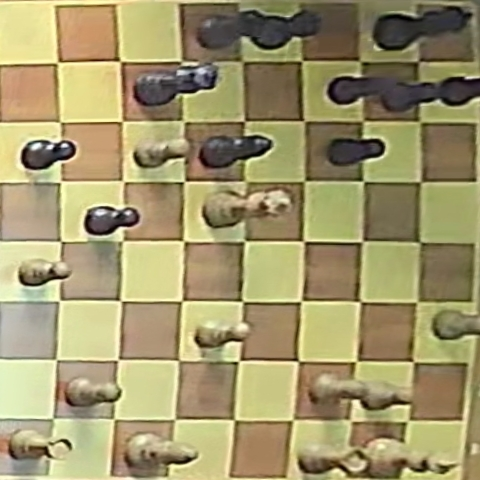black-bishop: (200, 134, 272, 169)
black-king: (374, 6, 472, 51)
black-pawn: (382, 79, 444, 112), (327, 74, 389, 107), (22, 139, 76, 171), (86, 205, 140, 236), (327, 138, 385, 166), (436, 74, 479, 107)
black-queen: (136, 63, 217, 106)
black-rook: (197, 8, 268, 50), (253, 9, 322, 49)
white-bishop: (124, 432, 197, 472)
white-king: (364, 439, 456, 477)
white-pawn: (310, 373, 367, 405), (134, 137, 189, 168), (359, 379, 413, 409), (66, 378, 120, 407), (19, 258, 72, 287), (196, 321, 251, 348), (434, 310, 479, 340)
white-queen: (203, 188, 291, 228)
white-rook: (297, 442, 372, 475), (8, 429, 73, 461)
